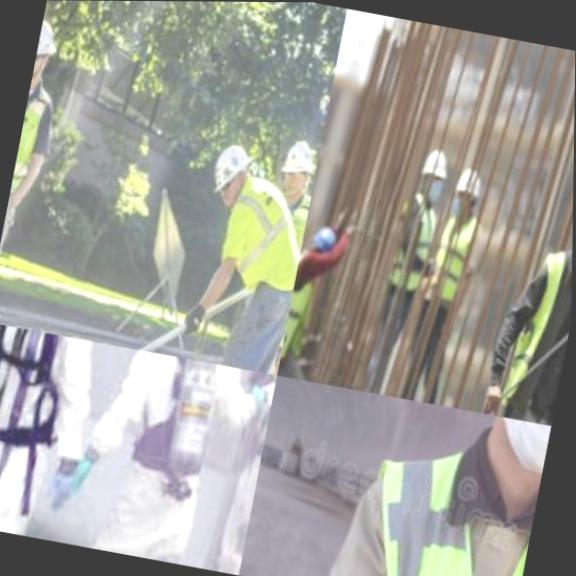safety_vest: (64, 343, 262, 572), (314, 404, 548, 576), (0, 321, 114, 545), (476, 228, 573, 424), (185, 365, 275, 575), (199, 169, 312, 300), (363, 183, 446, 300), (409, 201, 482, 307), (276, 243, 327, 379), (9, 73, 60, 200), (253, 180, 311, 264)
